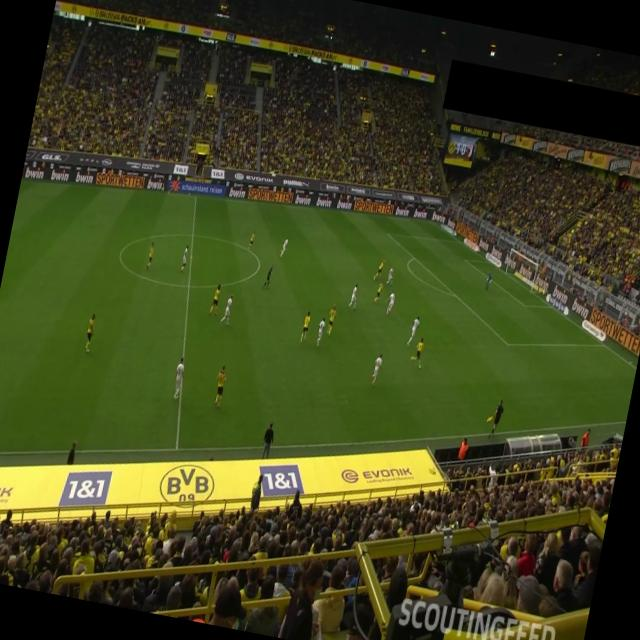goalkeeper: (484, 270, 494, 290)
player: (210, 364, 230, 409), (170, 356, 188, 400), (408, 335, 426, 369), (83, 313, 98, 353), (208, 283, 224, 318), (220, 292, 236, 326), (369, 352, 384, 388), (406, 314, 421, 348), (300, 310, 312, 344), (326, 302, 338, 336), (348, 282, 360, 312), (383, 290, 396, 316), (145, 242, 156, 272), (373, 258, 386, 282), (372, 280, 384, 306), (180, 244, 190, 274), (316, 317, 326, 347), (384, 264, 396, 288), (248, 230, 256, 250), (280, 238, 288, 258)
referee: (484, 397, 506, 440), (262, 262, 274, 290), (160, 174, 168, 194)
